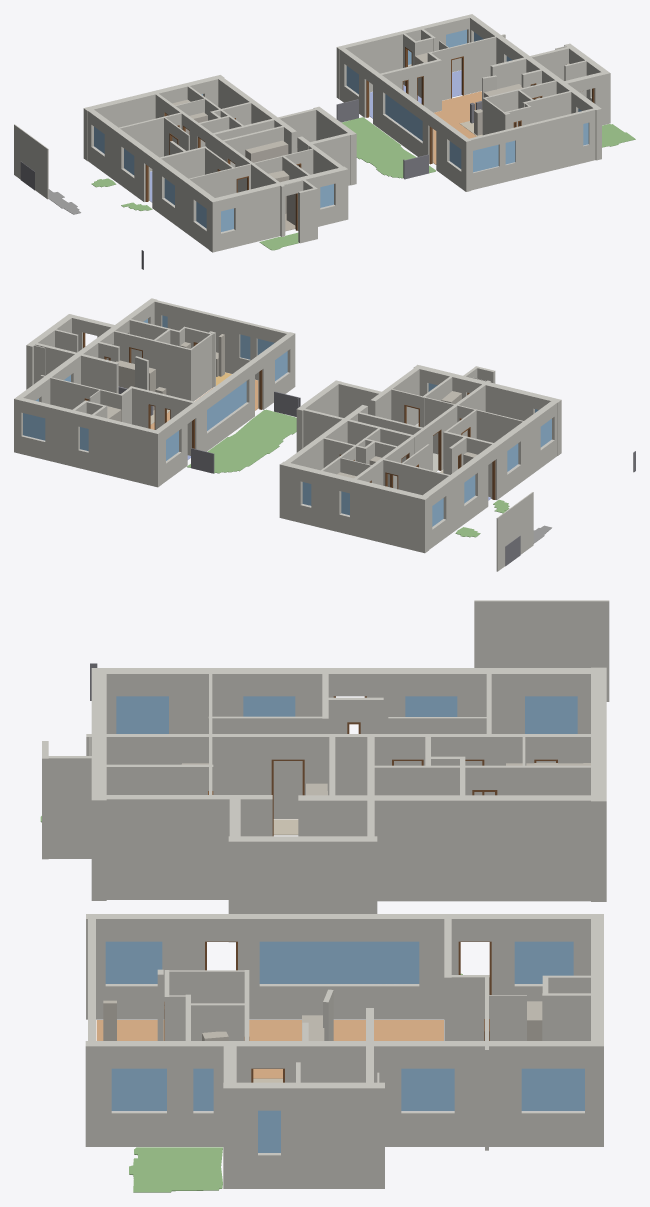
3 views of the same model, one above another, from view 1: azimuth 30°, elevation 25°; view 2: azimuth 150°, elevation 25°; view 3: azimuth 270°, elevation 25° (orthographic). The views are drawn at different scales.
Visible parts, largest first — view 1: walls, floor_27_Outdoor, railings, floor_9_Living_Room, window_17, furniture_6_closet, window_30, floor_29_Outdoor, floor_30_Outdoor, floor_3_Bed_Room; view 2: walls, floor_27_Outdoor, railings, window_17, furniture_7_closet, window_2; view 3: walls, window_17, floor_9_Living_Room, floor_29_Outdoor, window_31, window_5, window_0, window_8, window_12, window_3, window_4, window_1 (+3 smaller).
Part boxes in pixels (<box>): walls: <box>14,14,610,252</box>; floor_27_Outdoor: <box>342,117,435,178</box>; railings: <box>20,99,482,269</box>; floor_9_Living_Room: <box>433,91,481,164</box>; window_17: <box>385,94,422,140</box>; furniture_6_closet: <box>245,140,288,162</box>; window_30: <box>473,144,498,172</box>; floor_29_Outdoor: <box>602,124,635,147</box>; floor_30_Outdoor: <box>259,232,298,250</box>; floor_3_Bed_Room: <box>370,70,461,118</box>; walls: <box>14,298,561,571</box>; floor_27_Outdoor: <box>187,409,296,473</box>; railings: <box>118,386,635,566</box>; window_17: <box>207,381,246,430</box>; furniture_7_closet: <box>116,360,155,410</box>; window_2: <box>23,413,45,440</box>; walls: <box>42,600,609,1188</box>; window_17: <box>259,941,419,983</box>; floor_9_Living_Room: <box>96,1020,443,1078</box>; floor_29_Outdoor: <box>129,1147,222,1192</box>; window_31: <box>521,1068,584,1110</box>; window_5: <box>105,941,162,983</box>; window_0: <box>111,1068,166,1110</box>; window_8: <box>514,941,573,983</box>; window_12: <box>401,1068,454,1110</box>; window_3: <box>116,696,168,733</box>; window_4: <box>525,696,577,733</box>; window_1: <box>243,696,295,716</box>.
Size of the model in its own units: 28.27 by 2.72 by 13.83.
